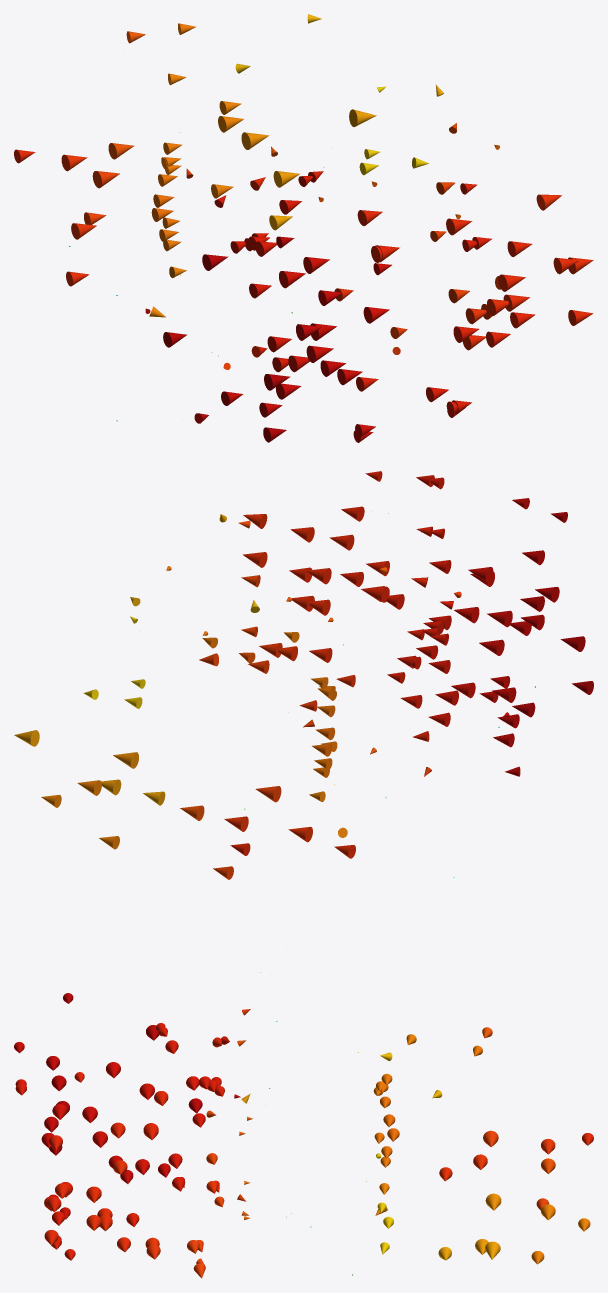
Rendered from LineasCorrienteH2-O2_mh2-8.20_V-0.8.glb.
3 views of the same model, one above another, from view 1: azimuth 30°, elevation 25°; view 2: azimuth 150°, elevation 25°; view 3: azimuth 270°, elevation 25° (orthographic). The views are drawn at different scales.
Bounding box in the file's own units: 0.000921 × 0.000786 × 0.00124.
Materials: 2 (2 with a texture image).
